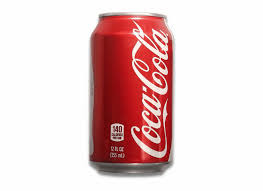coke: (89, 13, 174, 175)
